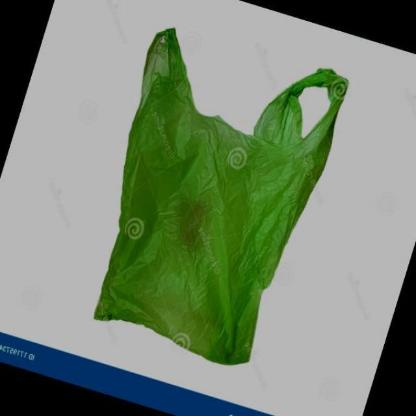Plastic Bag: (92, 27, 350, 365)
